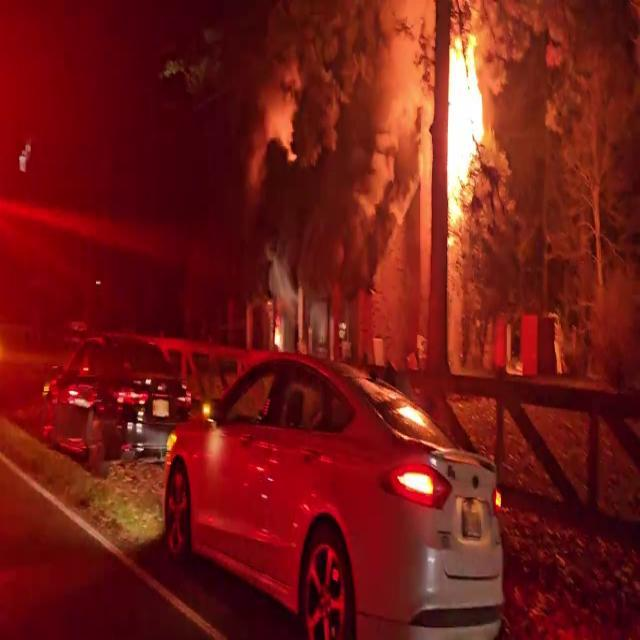Fire: (436, 20, 499, 226)
Smoke: (217, 0, 440, 308)
